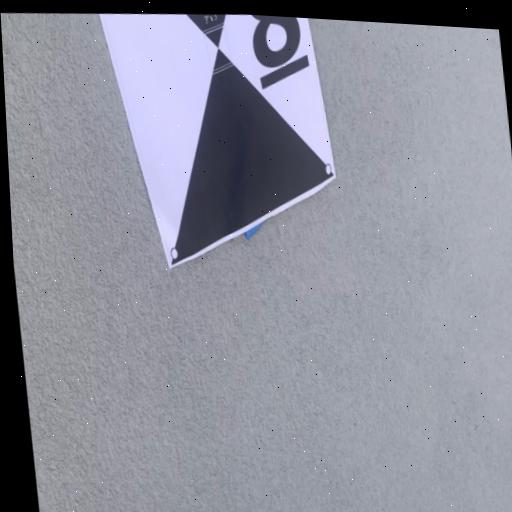target8: (99, 14, 336, 269)
